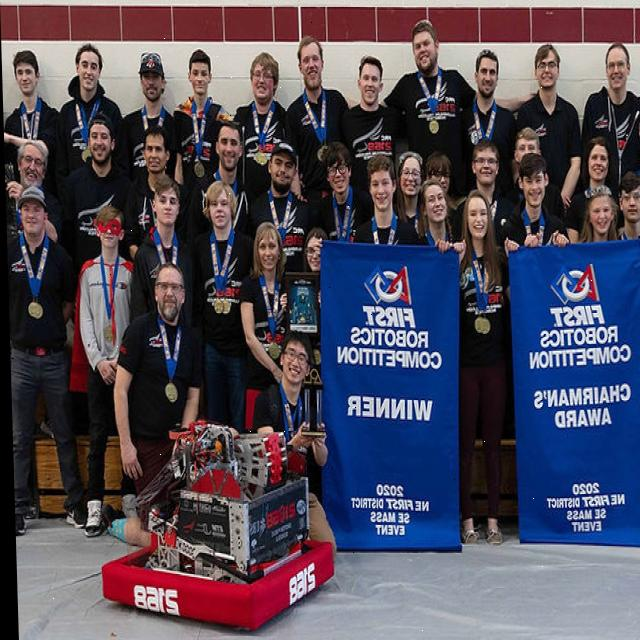robot: (94, 429, 336, 629)
